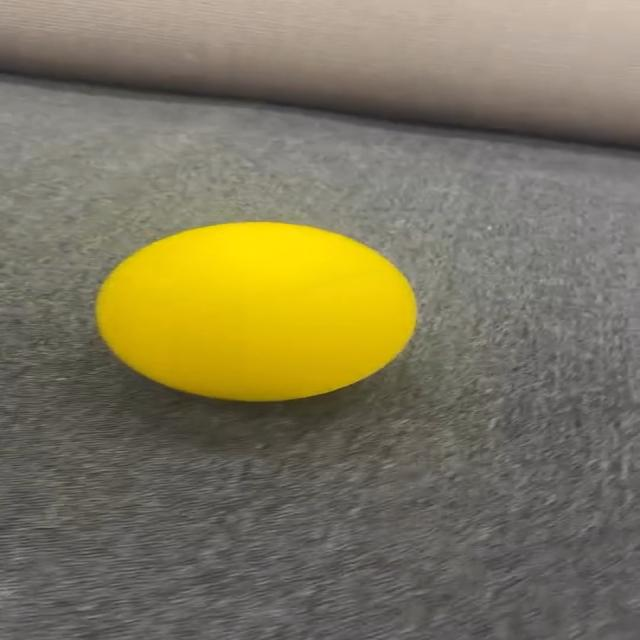Fuels: (97, 223, 415, 399)
